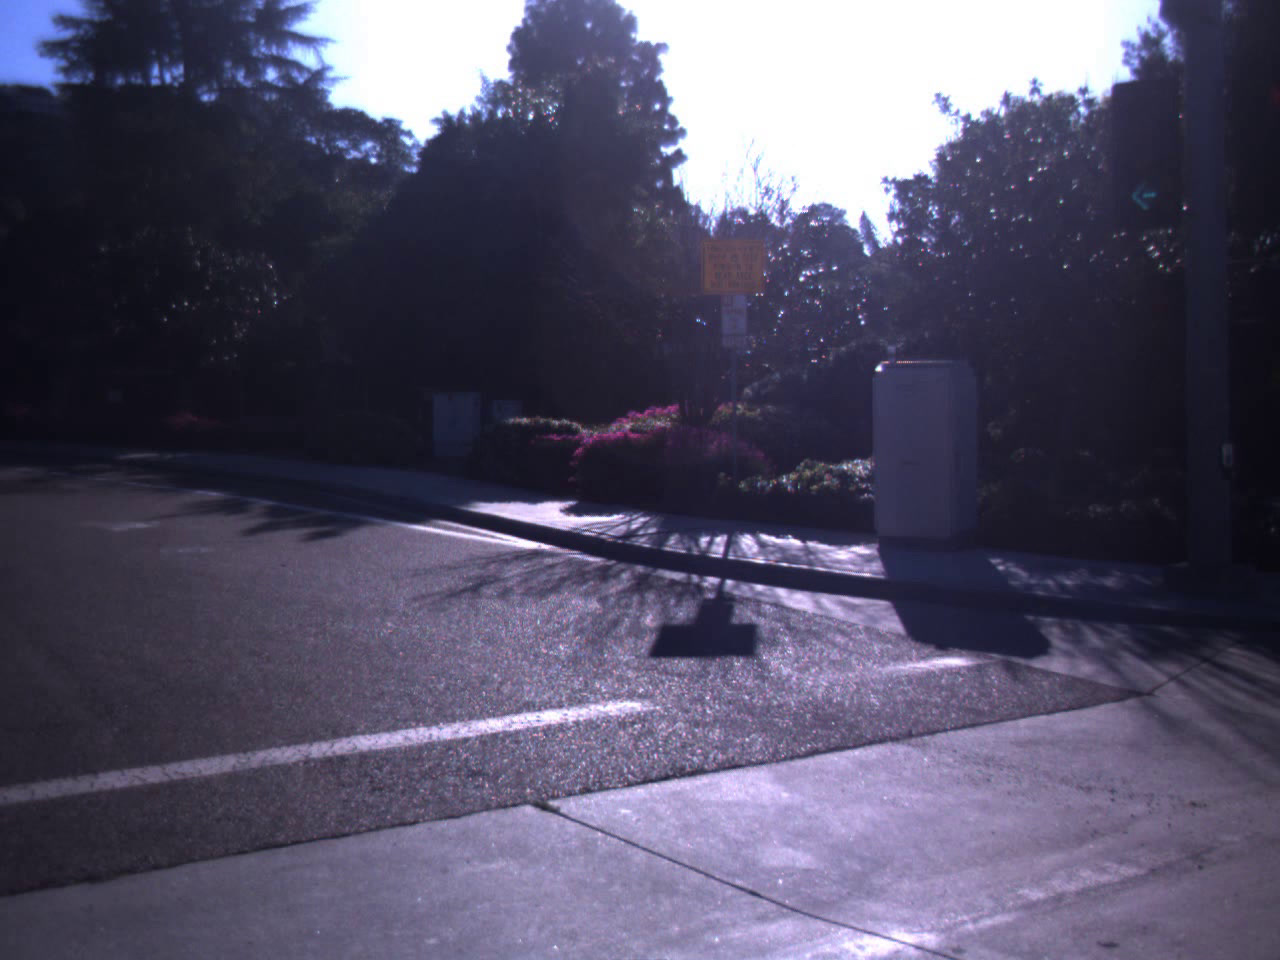go: (1098, 67, 1197, 227)
